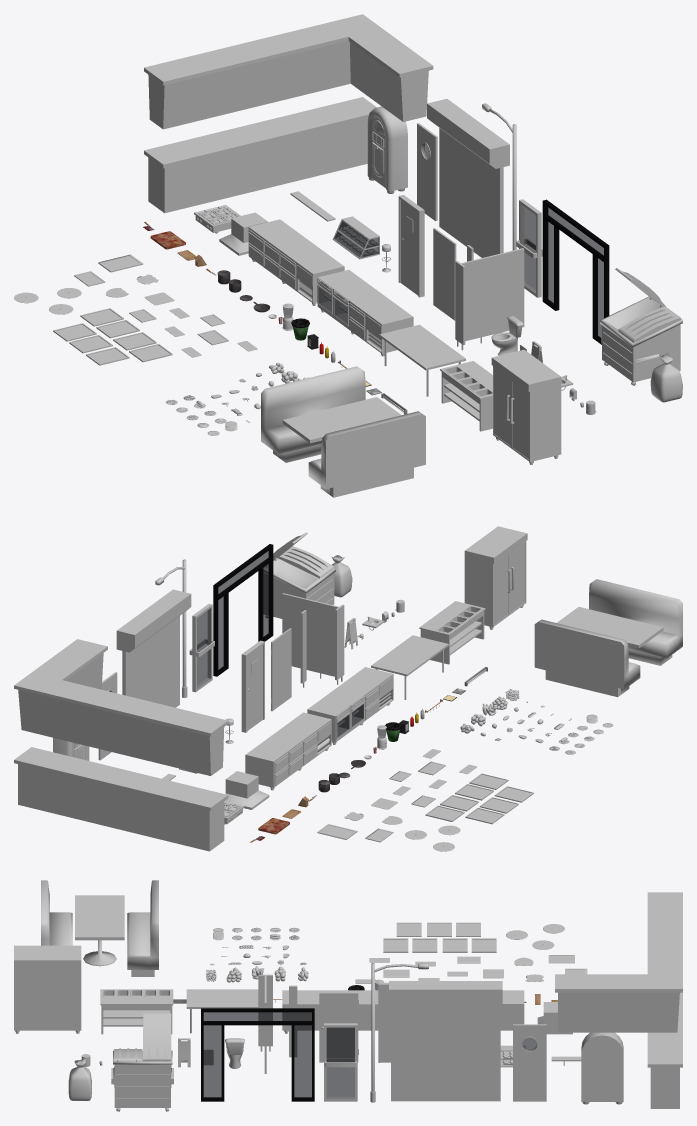
File: GrillReaperSketchfab.fbx
3 renders of one model, top to bottom at view 1: azimuth 30°, elevation 25°; view 2: azimuth 150°, elevation 25°; view 3: azimuth 270°, elevation 25°, orthographic. The views are drawn at different scales.
Parts seen in each view (by area): view 1: SM_RestaurantCounter, SM_Tables, SM_EmergencyDoor, SM_Fridge, SM_ToiletCabin02, SM_TrashBin, SM_KitchenCounter, SM_EntranceDoorStand, SM_KitchenOven, SM_Jukebox, SM_VegetableCounter, SM_ToiletDoor (+11 smaller); view 2: SM_RestaurantCounter, SM_Tables, SM_EmergencyDoor, SM_Fridge, SM_ToiletCabin02, SM_KitchenCounter, SM_EntranceDoorStand, SM_TrashBin, SM_KitchenOven, SM_VegetableCounter, SM_ToiletDoor, SM_ButcherTable (+8 smaller); view 3: SM_EmergencyDoor, SM_RestaurantCounter, SM_Tables, SM_Fridge, SM_EntranceDoorStand, SM_TrashBin, SM_Jukebox, SM_EntranceDoor, SM_KitchenDoor, SM_VegetableCounter, SM_ToiletCabinDoor, SM_KitchenOven (+16 smaller).
Boxes of the visible parts, x1,y1,x2,y2 form: SM_RestaurantCounter: [144, 14, 433, 213]; SM_Tables: [261, 366, 425, 497]; SM_EmergencyDoor: [427, 98, 509, 257]; SM_Fridge: [491, 349, 561, 464]; SM_ToiletCabin02: [455, 248, 524, 350]; SM_TrashBin: [600, 268, 682, 385]; SM_KitchenCounter: [248, 219, 344, 305]; SM_EntranceDoorStand: [542, 199, 609, 344]; SM_KitchenOven: [317, 270, 413, 356]; SM_Jukebox: [367, 106, 407, 193]; SM_VegetableCounter: [440, 361, 492, 431]; SM_ToiletDoor: [398, 195, 424, 297]; SM_RestaurantCounter: [14, 639, 228, 851]; SM_Tables: [534, 579, 682, 697]; SM_EmergencyDoor: [116, 589, 191, 707]; SM_Fridge: [464, 526, 527, 629]; SM_ToiletCabin02: [282, 593, 344, 684]; SM_KitchenCounter: [245, 712, 331, 790]; SM_EntranceDoorStand: [213, 544, 273, 676]; SM_TrashBin: [263, 532, 335, 618]; SM_KitchenOven: [307, 667, 393, 744]; SM_VegetableCounter: [419, 601, 485, 664]; SM_ToiletDoor: [241, 640, 264, 732]; SM_ButcherTable: [371, 635, 448, 699]; SM_EmergencyDoor: [389, 981, 502, 1101]; SM_RestaurantCounter: [555, 892, 682, 1108]; SM_Tables: [41, 880, 158, 976]; SM_Fridge: [14, 945, 81, 1033]; SM_EntranceDoorStand: [201, 1008, 314, 1101]; SM_TrashBin: [111, 1013, 173, 1111]; SM_Jukebox: [581, 1032, 623, 1104]; SM_EntranceDoor: [324, 1023, 357, 1101]; SM_KitchenDoor: [513, 1024, 546, 1101]; SM_VegetableCounter: [100, 989, 173, 1034]; SM_ToiletCabinDoor: [319, 992, 358, 1062]; SM_KitchenOven: [282, 990, 378, 1033].
Bounding box in the file's own units: 1061 × 364 × 1587.
